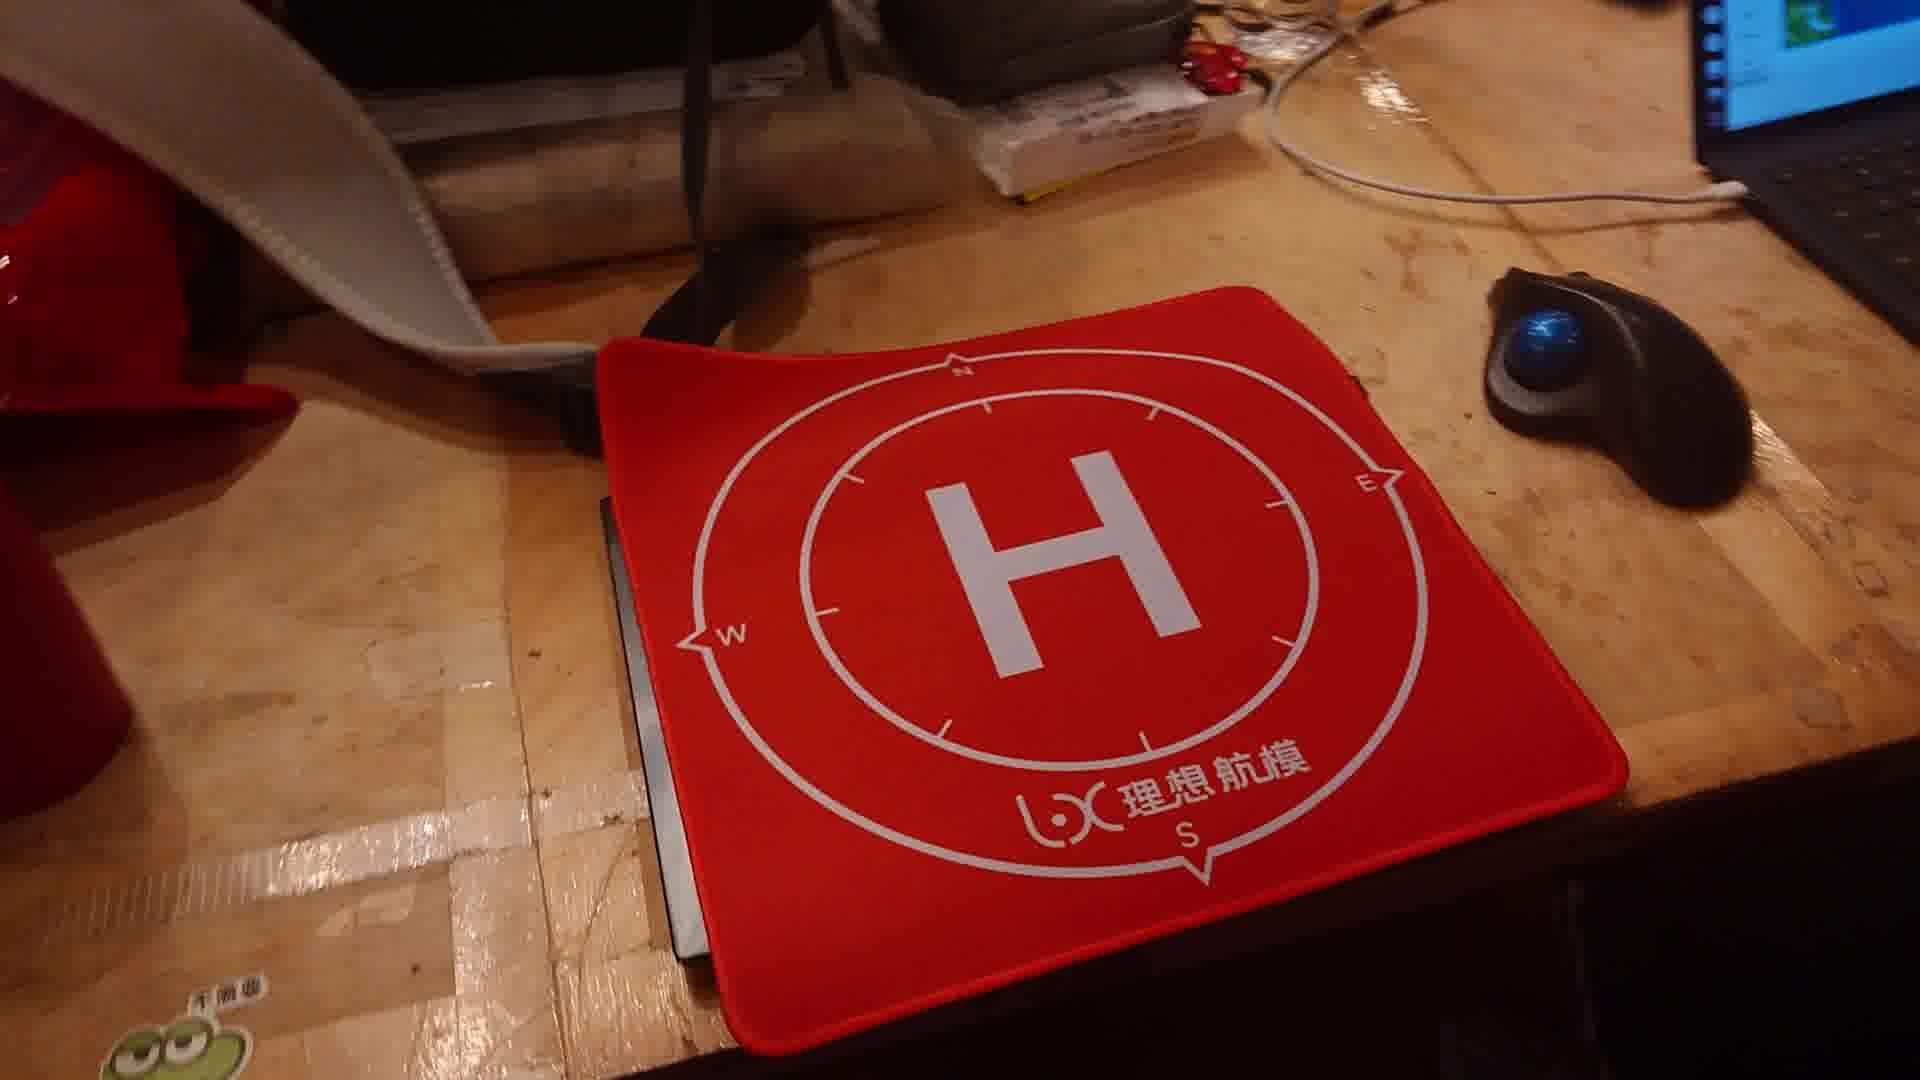H: (920, 446, 1205, 683)
